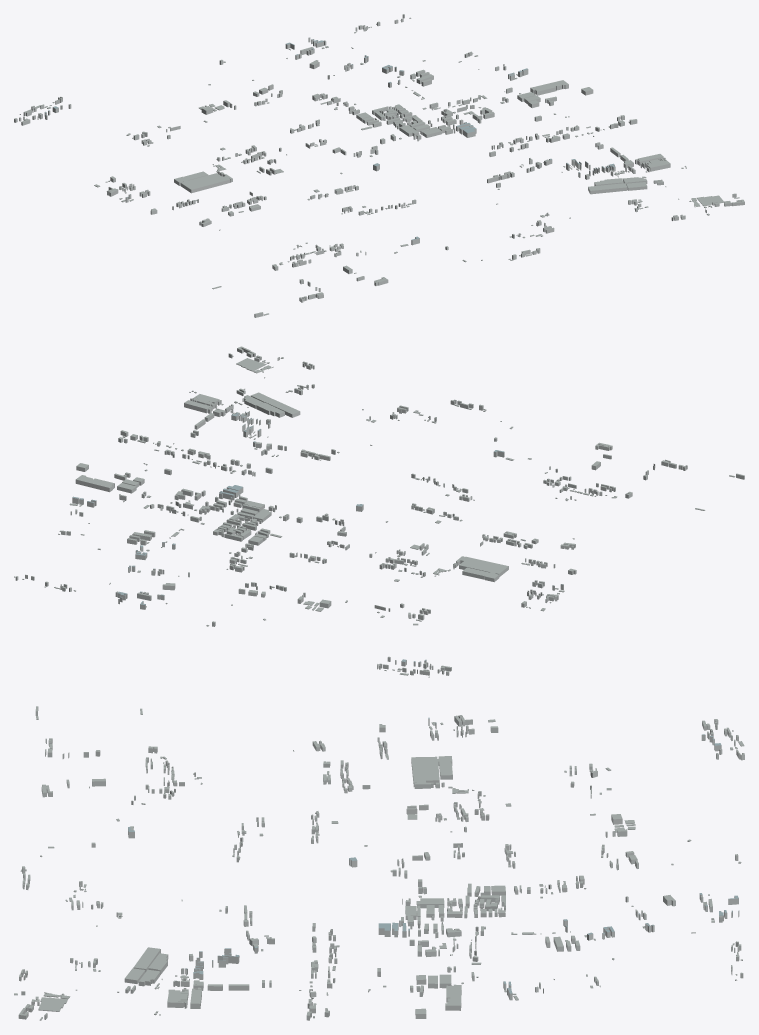
The model's file is far.glb.
3 renders of one model, top to bottom at view 1: azimuth 30°, elevation 25°; view 2: azimuth 150°, elevation 25°; view 3: azimuth 270°, elevation 25°, orthographic. The views are drawn at different scales.
Bounding box in the file's own units: 2122 × 25.9 × 2106.
